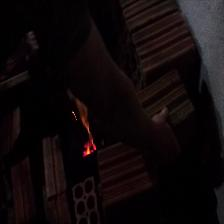fire: (69, 102, 98, 158)
